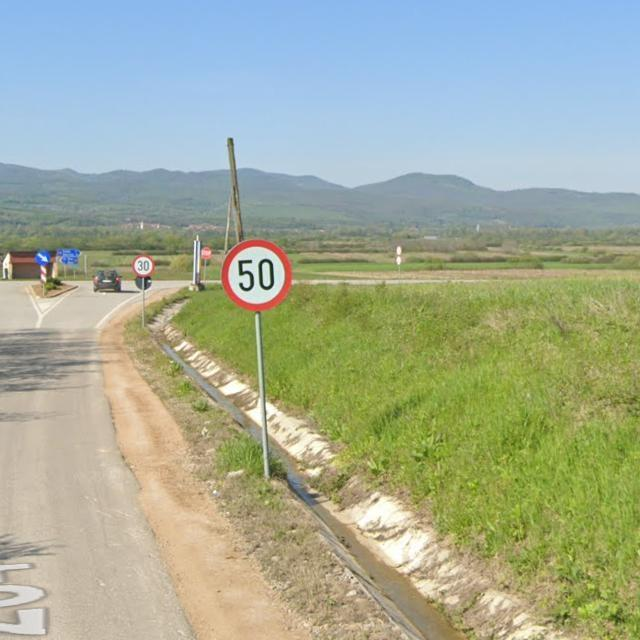forb_speed_over_30: (133, 254, 155, 277)
forb_speed_over_50: (222, 239, 295, 312)
